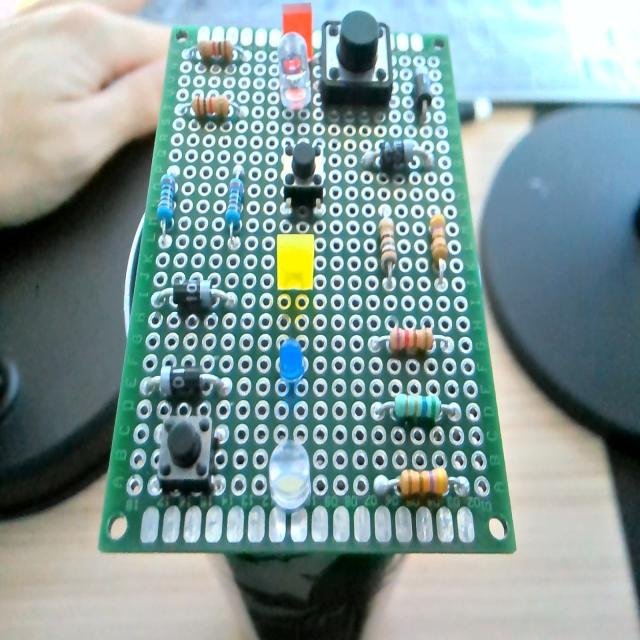diode: (135, 361, 232, 400), (144, 275, 241, 313), (353, 129, 434, 171), (407, 54, 436, 124)
led: (268, 30, 318, 124), (270, 225, 327, 305), (267, 439, 312, 512), (272, 334, 310, 396), (276, 4, 321, 36)
resistor: (378, 468, 458, 501), (375, 394, 453, 422), (224, 164, 246, 246), (156, 170, 178, 248), (186, 37, 247, 65), (390, 325, 433, 354), (378, 216, 396, 276), (192, 94, 230, 122), (430, 212, 448, 269)
switch: (317, 10, 391, 108), (156, 411, 216, 492), (283, 140, 325, 218)
